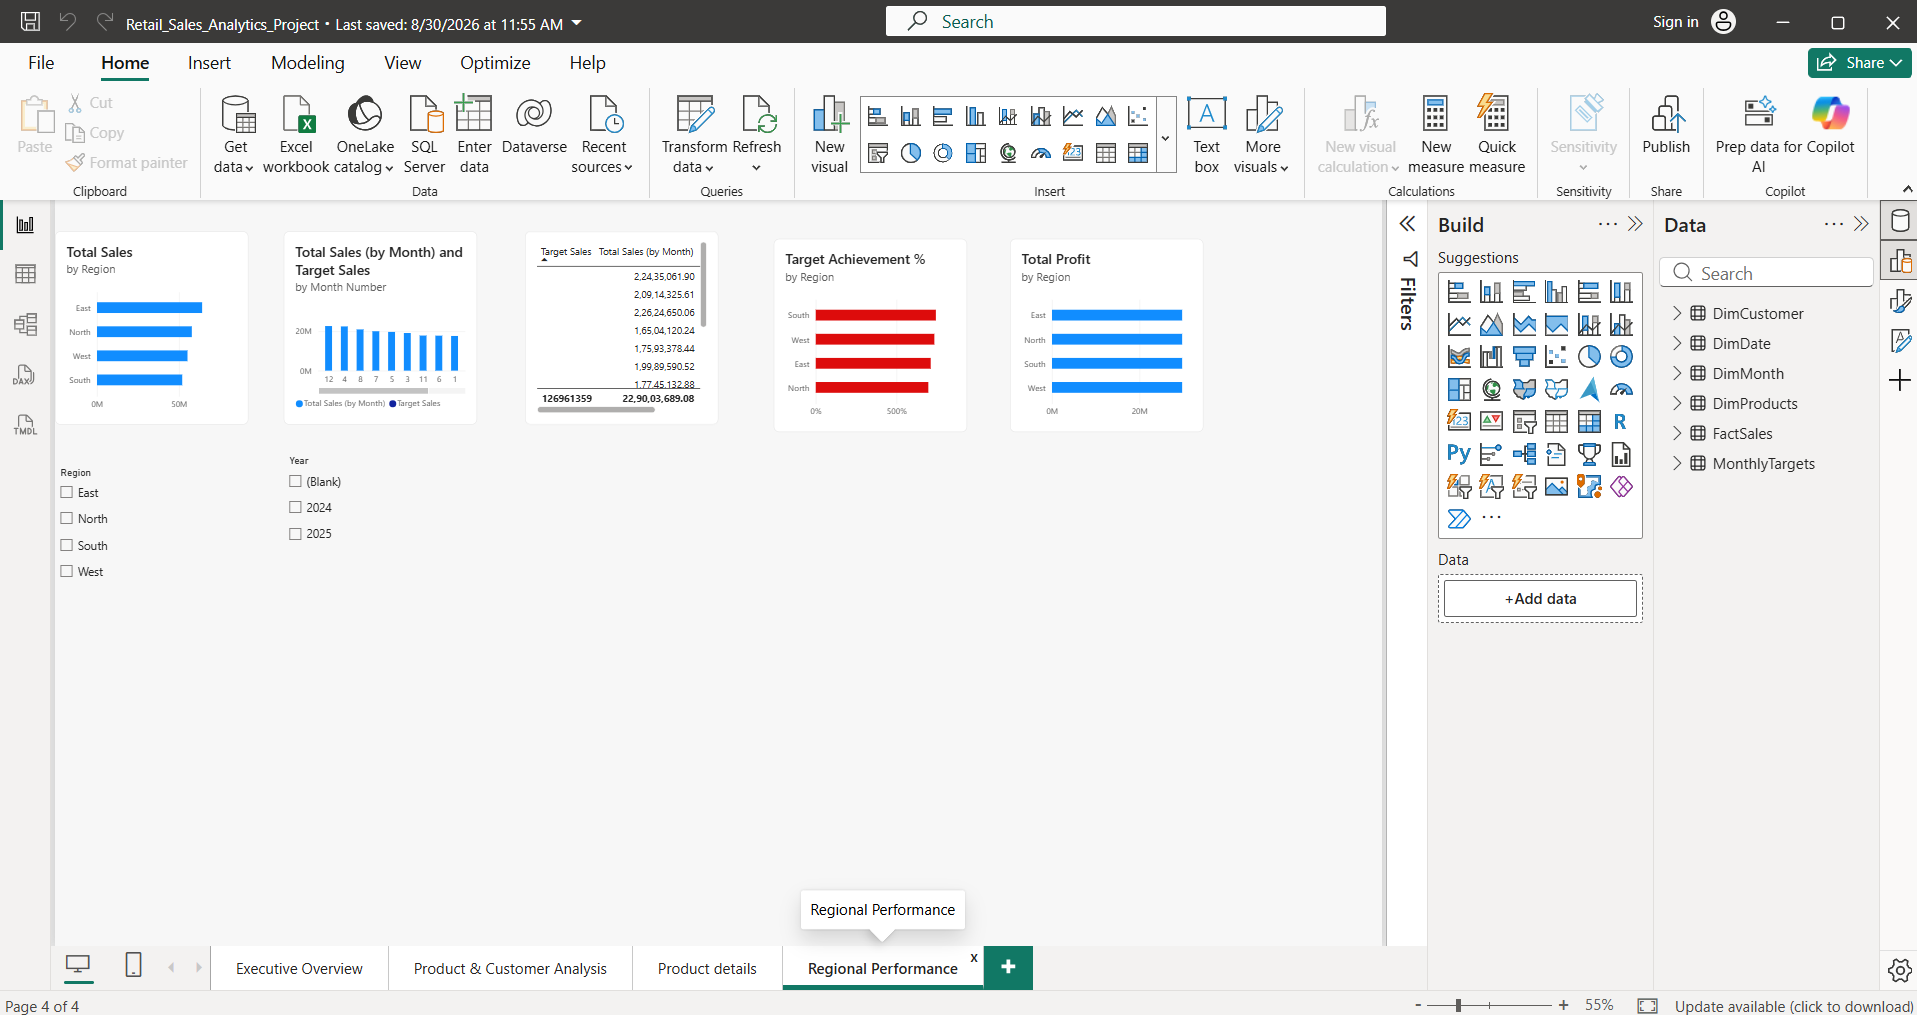

This screenshot's page, from the dashboard's own definition file:
{"tool":"powerbi","page":{"name":"Regional Performance","canvas":[1920,1080],"ordinal":3},"visuals":[{"type":"clusteredBarChart","fields":{"Category":["FactSales.Region"],"Y":["FactSales.Total Sales"]},"box":[0,45.8,280,280],"z":0},{"type":"lineClusteredColumnComboChart","fields":{"Category":["DimMonth.Month Number"],"Y":["FactSales.Total Sales (by Month)"],"Y2":["MonthlyTargets.Target Sales"]},"box":[331.7,45,280,280],"z":3},{"type":"tableEx","fields":{"Values":["MonthlyTargets.Target Sales","FactSales.Total Sales (by Month)","DimMonth.Month Name"]},"box":[680,45,280,280],"z":4},{"type":"clusteredBarChart","fields":{"Category":["MonthlyTargets.Region"],"Y":["MonthlyTargets.Target Achievement %"]},"box":[1040,56.7,280,280],"z":5},{"type":"clusteredBarChart","fields":{"Category":["MonthlyTargets.Region"],"Y":["FactSales.Total Profit"]},"box":[1383.3,56.7,280,280],"z":6},{"type":"slicer","fields":{"Values":["MonthlyTargets.Region"]},"box":[0,385,280,280],"z":7},{"type":"slicer","fields":{"Values":["DimMonth.Year"]},"box":[331.7,368.3,280,280],"z":8}]}

Visuals, with their boxes on the page's 1920x1080 design canvas (x1, y1, x2, y2). These are canvas units, not pixel positions in the 1917x1015 screenshot, which may show the page scaled, cropped or inside an application window:
clusteredBarChart - FactSales.Region x FactSales.Total Sales: [left=0, top=46, right=280, bottom=326]
lineClusteredColumnComboChart - DimMonth.Month Number x FactSales.Total Sales (by Month): [left=332, top=45, right=612, bottom=325]
tableEx - MonthlyTargets.Target Sales x FactSales.Total Sales (by Month): [left=680, top=45, right=960, bottom=325]
clusteredBarChart - MonthlyTargets.Region x MonthlyTargets.Target Achievement %: [left=1040, top=57, right=1320, bottom=337]
clusteredBarChart - MonthlyTargets.Region x FactSales.Total Profit: [left=1383, top=57, right=1663, bottom=337]
slicer - MonthlyTargets.Region: [left=0, top=385, right=280, bottom=665]
slicer - DimMonth.Year: [left=332, top=368, right=612, bottom=648]
